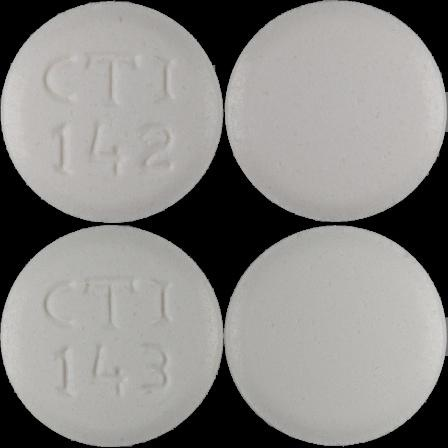33261-548: (0, 0, 224, 224)
